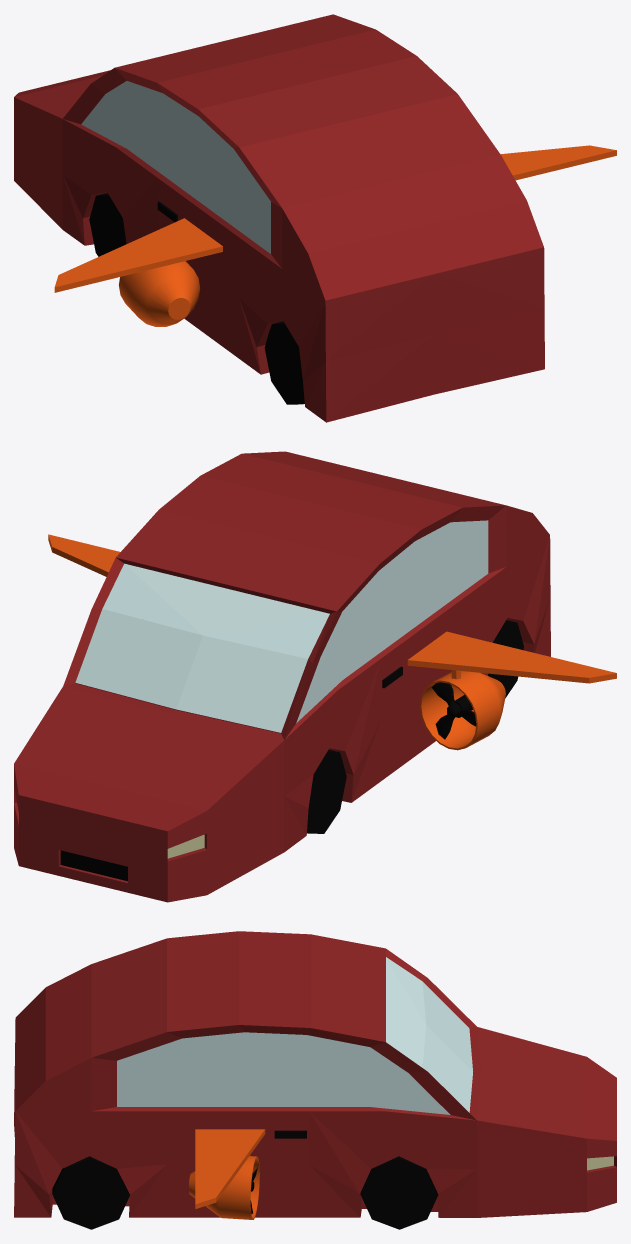
Rendered from propelercar.fbx.
3 views of the same model, one above another, from view 1: azimuth 30°, elevation 25°; view 2: azimuth 150°, elevation 25°; view 3: azimuth 270°, elevation 25° (orthographic). The views are drawn at different scales.
Visible parts, largest first — view 1: polySurface14, polySurface1, polySurface13, polySurface8, polySurface12, polySurface7; view 2: polySurface14, polySurface1, polySurface13, polySurface7, polySurface12, polySurface15, polySurface8; view 3: polySurface14, polySurface6, polySurface3, polySurface12, polySurface4.
Boxes of the visible parts, <box> form: polySurface14: <box>14,14,544,422</box>; polySurface1: <box>54,218,222,292</box>; polySurface13: <box>119,261,200,326</box>; polySurface8: <box>264,321,304,404</box>; polySurface12: <box>501,145,616,180</box>; polySurface7: <box>89,193,126,256</box>; polySurface14: <box>14,451,550,902</box>; polySurface1: <box>407,631,616,683</box>; polySurface13: <box>420,671,505,750</box>; polySurface7: <box>307,749,346,833</box>; polySurface12: <box>48,534,120,576</box>; polySurface15: <box>431,682,476,739</box>; polySurface8: <box>488,620,523,697</box>; polySurface14: <box>14,931,616,1217</box>; polySurface6: <box>52,1156,129,1229</box>; polySurface3: <box>360,1156,438,1229</box>; polySurface12: <box>195,1129,265,1208</box>; polySurface4: <box>189,1156,259,1219</box>.
Bounding box in the file's own units: 14.21 × 5.68 × 15.02.
